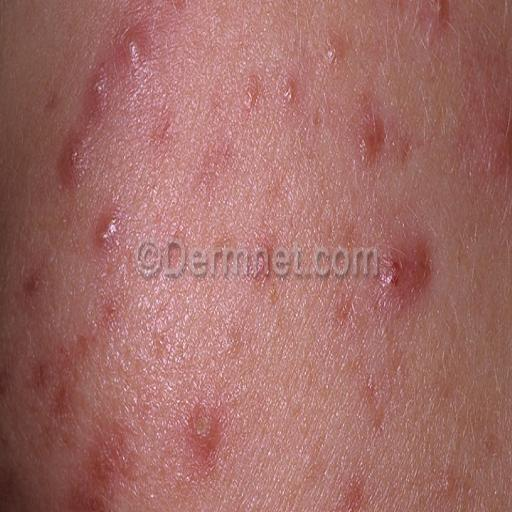Skin_Lesion: (118, 30, 152, 76), (102, 454, 137, 498), (244, 80, 275, 125), (69, 480, 109, 512), (485, 125, 510, 176), (188, 410, 214, 458), (101, 214, 132, 254), (374, 245, 402, 288), (88, 71, 118, 107), (249, 241, 271, 287), (64, 144, 92, 174), (398, 128, 419, 166), (340, 485, 368, 512), (358, 125, 375, 169), (333, 294, 353, 328), (326, 34, 342, 72), (425, 4, 448, 30), (209, 240, 232, 264), (33, 358, 50, 389), (0, 477, 17, 508), (150, 330, 168, 357), (282, 80, 299, 108), (24, 274, 41, 300), (58, 209, 74, 231), (55, 381, 71, 402), (107, 299, 122, 315), (159, 123, 170, 143)
